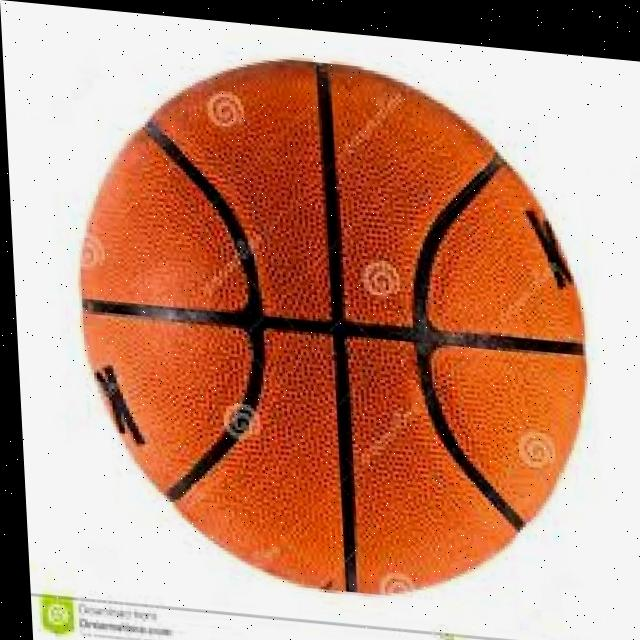Basketball: (70, 41, 600, 616)
